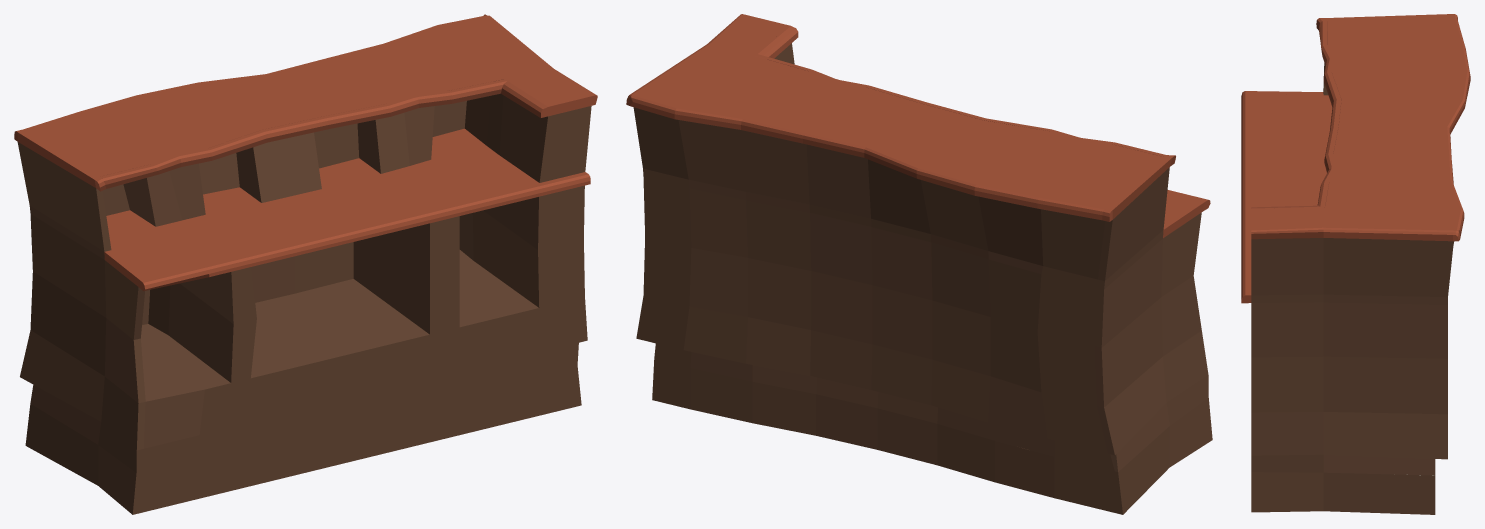
File: Counter.fbx
3 renders of one model, left to right at view 1: azimuth 30°, elevation 25°; view 2: azimuth 150°, elevation 25°; view 3: azimuth 270°, elevation 25°, orthographic. The views are drawn at different scales.
Parts seen in each view (by area): view 1: Counter; view 2: Counter; view 3: Counter.
Boxes of the visible parts, x1,y1,x2,y2 form: Counter: (14,14,597,514); Counter: (626,14,1212,514); Counter: (1241,14,1470,514).
Size of the model in its own units: 263 by 161 by 116.
1 material, 1 textured.
